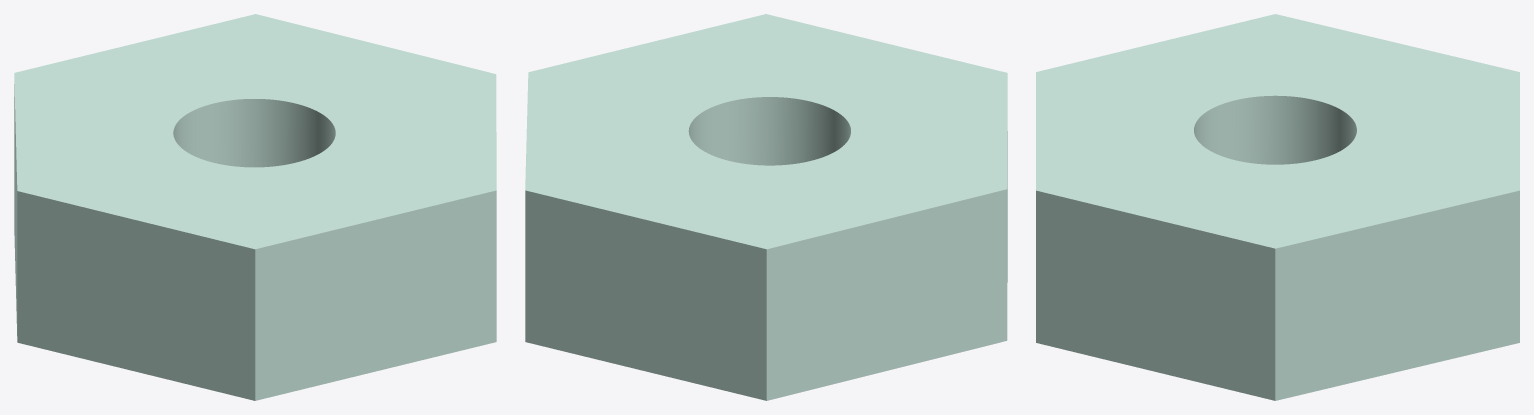
3 views of the same model, side by side, from view 1: azimuth 30°, elevation 25°; view 2: azimuth 150°, elevation 25°; view 3: azimuth 270°, elevation 25° (orthographic).
Visible parts, largest first — view 1: Renderer Node; view 2: Renderer Node; view 3: Renderer Node.
Boxes of the visible parts, box(x1,y1,x2,y2) form: Renderer Node: box(14, 14, 496, 400); Renderer Node: box(525, 14, 1007, 400); Renderer Node: box(1036, 14, 1519, 400).
Bounding box in the file's own units: 0.6454 × 0.1953 × 0.5625.
